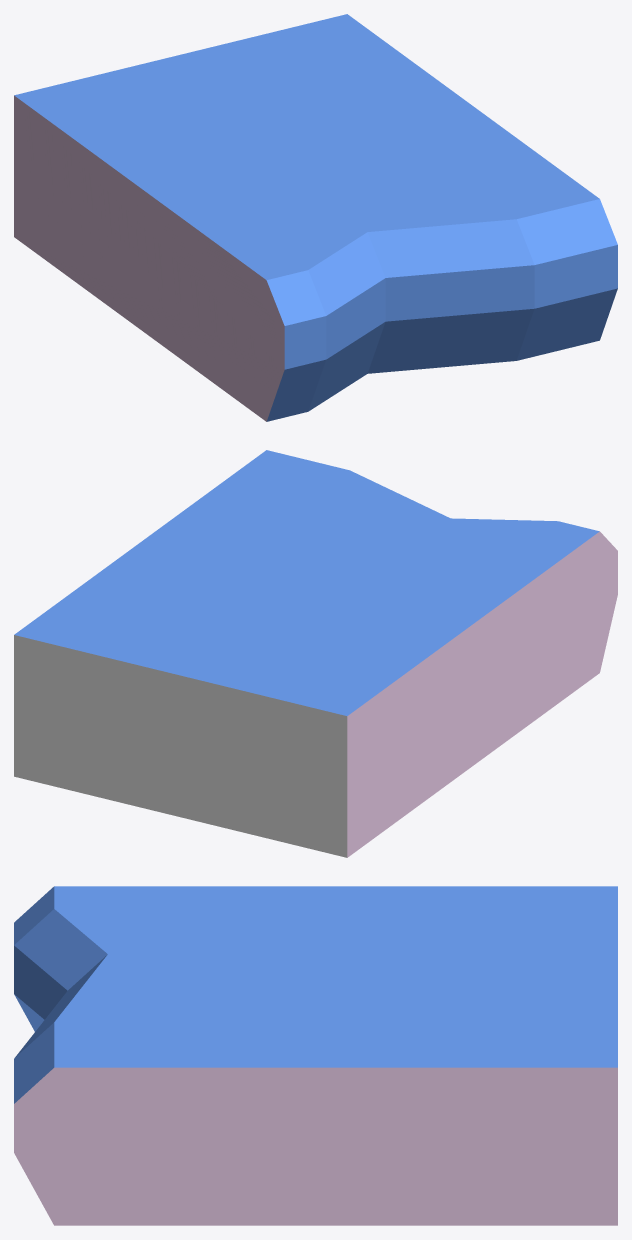
File: Iceberg_Straight_1x2_1.fbx
3 views of the same model, one above another, from view 1: azimuth 30°, elevation 25°; view 2: azimuth 150°, elevation 25°; view 3: azimuth 270°, elevation 25° (orthographic). The views are drawn at different scales.
Visible parts, largest first — view 1: Iceberg_Straight_1x2_1; view 2: Iceberg_Straight_1x2_1; view 3: Iceberg_Straight_1x2_1.
Part boxes in pixels (bbox=[...]): Iceberg_Straight_1x2_1: bbox=[14, 14, 617, 421]; Iceberg_Straight_1x2_1: bbox=[14, 450, 617, 857]; Iceberg_Straight_1x2_1: bbox=[14, 886, 617, 1225].
Size of the model in its own units: 100 by 40.63 by 141.
